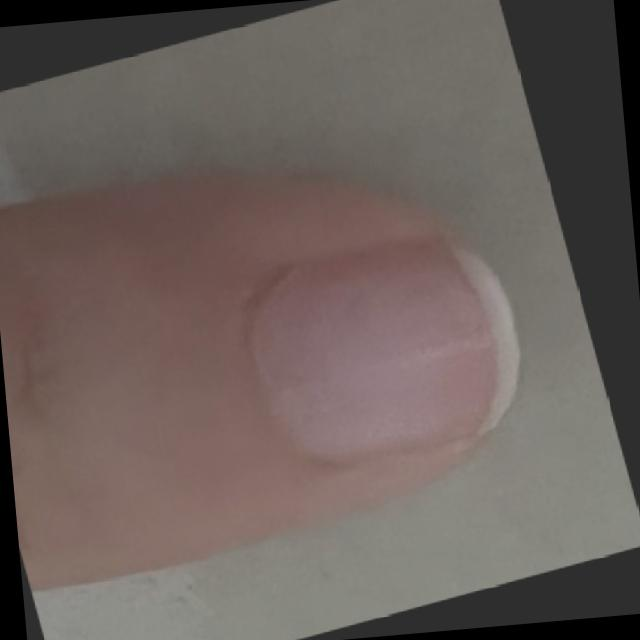Nail: (252, 239, 520, 466)
